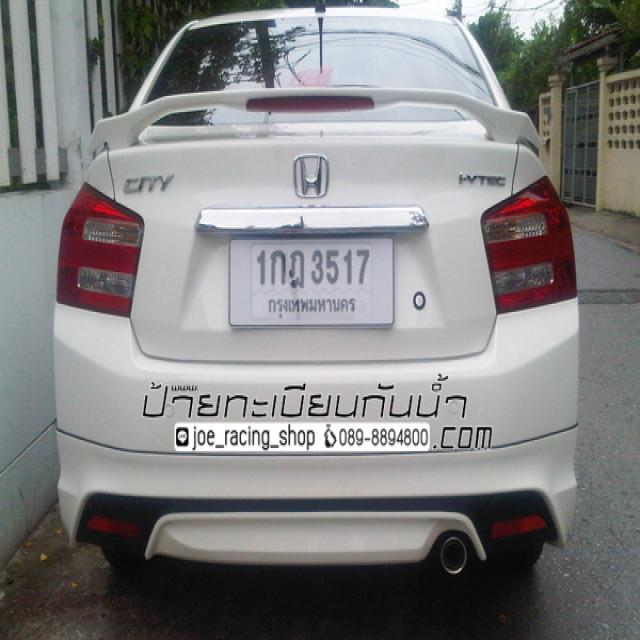license_plate: (230, 234, 394, 330)
